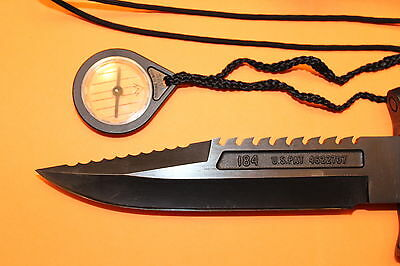knief: (20, 141, 399, 216)
